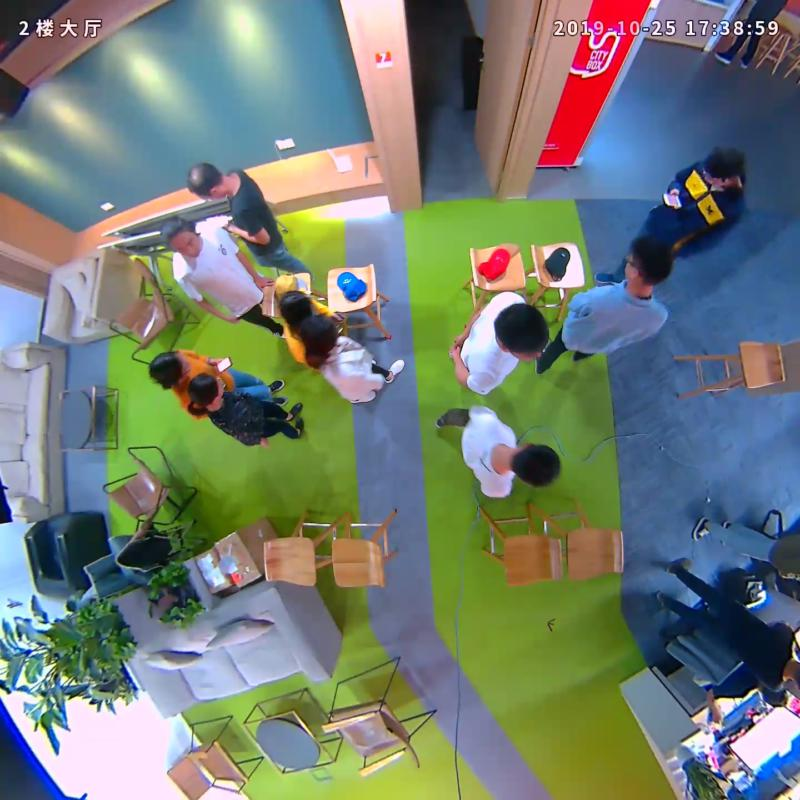head: (494, 302, 550, 363), (623, 238, 673, 286), (511, 443, 561, 487), (702, 146, 745, 187), (157, 217, 202, 256), (187, 163, 227, 201), (148, 350, 190, 384), (299, 317, 339, 351), (187, 373, 225, 406), (278, 289, 313, 324)
